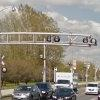Car: (10, 77, 72, 100)
